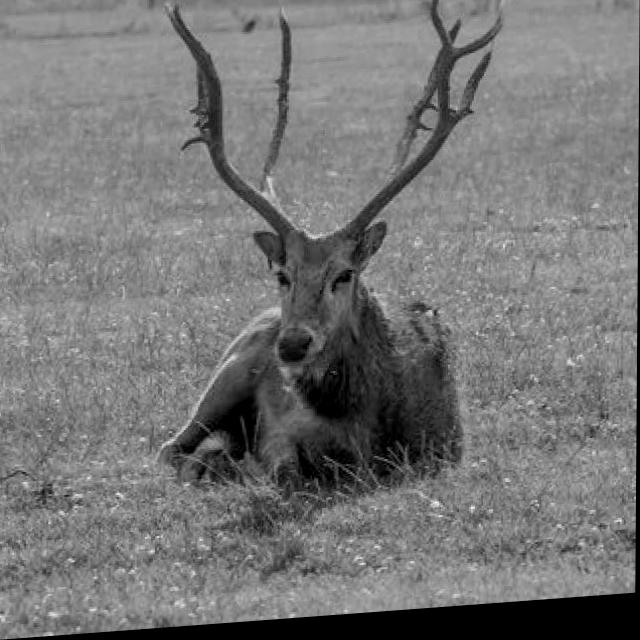Deer: (103, 0, 515, 530)
